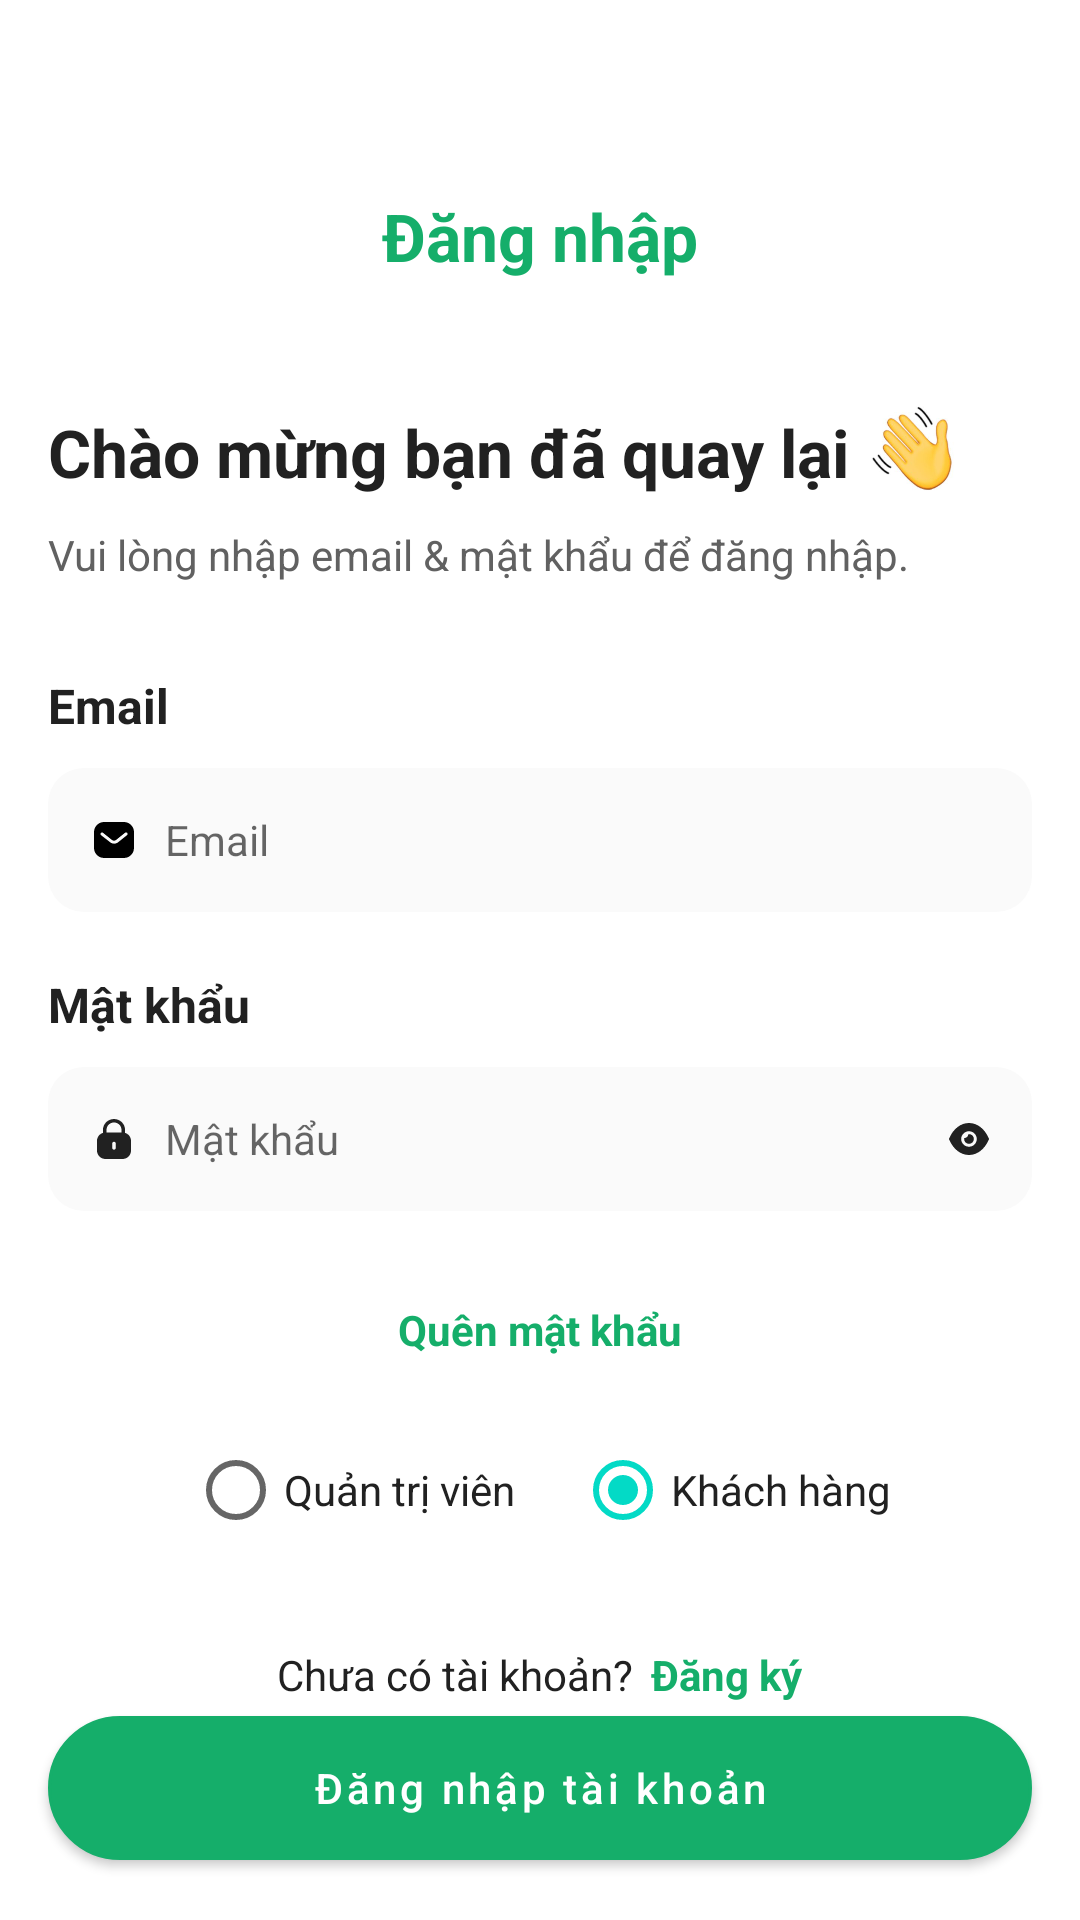

Icon click points for this 1080px x 1920px phone screenshot, format (x,y):
password: (114,1139)
show: (969,1139)
wave: (912,448)
